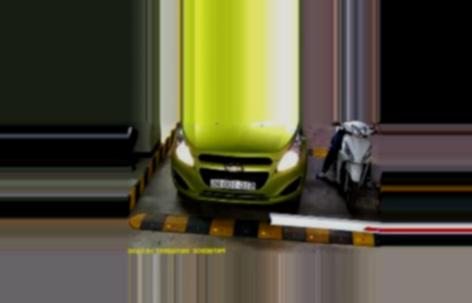License_Plate: (209, 178, 256, 190)
